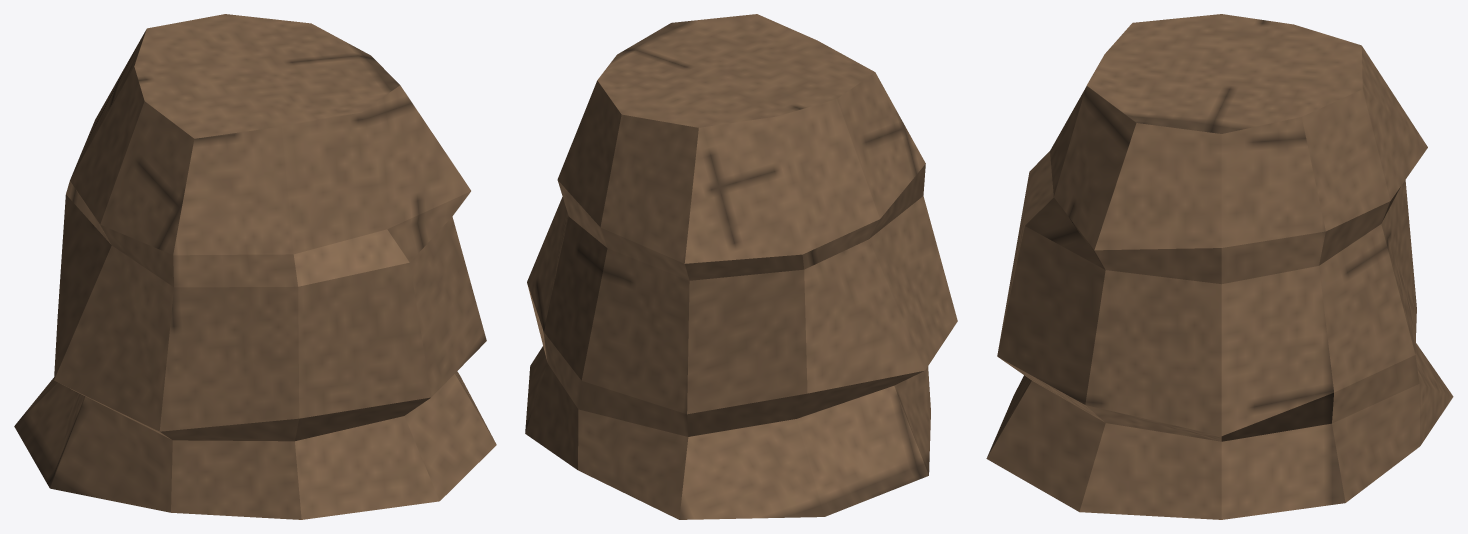
Rendered from cliff.glb.
The picture shows the model from 3 angles, left to right: view 1: azimuth 30°, elevation 25°; view 2: azimuth 150°, elevation 25°; view 3: azimuth 270°, elevation 25°; orthographic projection. The views are drawn at different scales.
Parts seen in each view (by area): view 1: cliff_sand.013; view 2: cliff_sand.013; view 3: cliff_sand.013.
Part boxes in pixels (<box>): cliff_sand.013: <box>14,14,496,519</box>; cliff_sand.013: <box>525,14,957,519</box>; cliff_sand.013: <box>986,14,1453,519</box>.
Size of the model in its own units: 4.88 by 4.15 by 4.77.
1 material, 1 textured.
